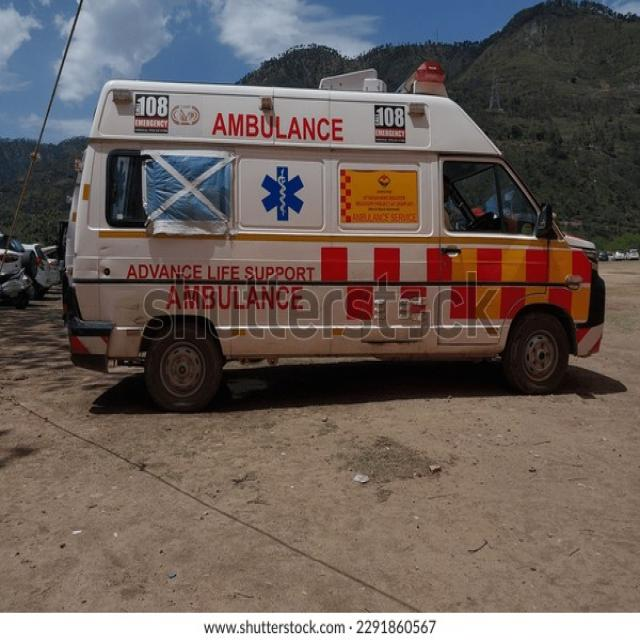ambulance: (64, 59, 607, 394)
